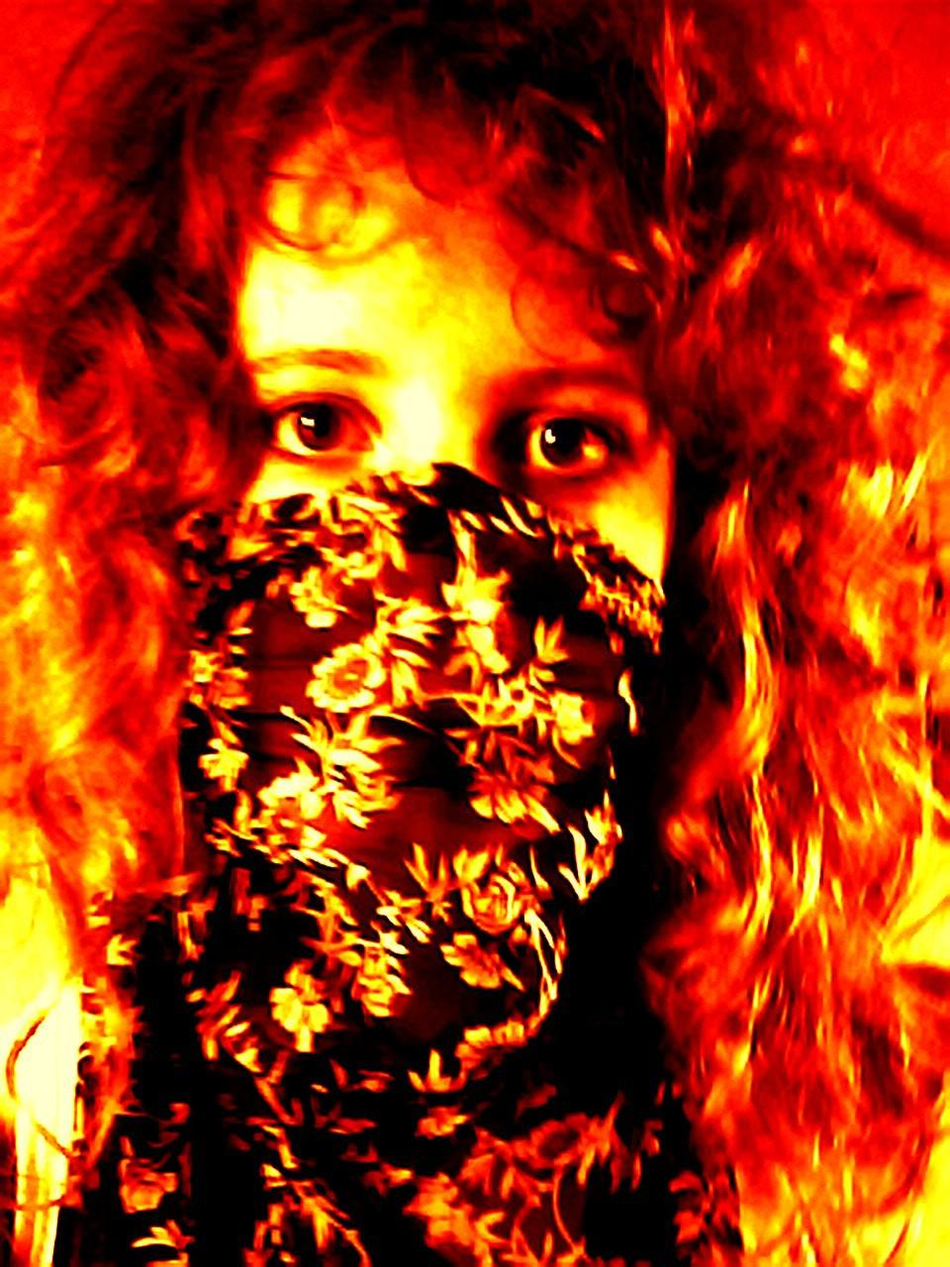OK: (149, 272, 712, 834)
